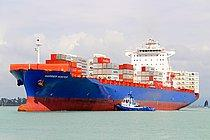Ship: (5, 35, 204, 116)
